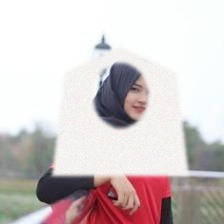Mukena: (51, 46, 189, 176)
